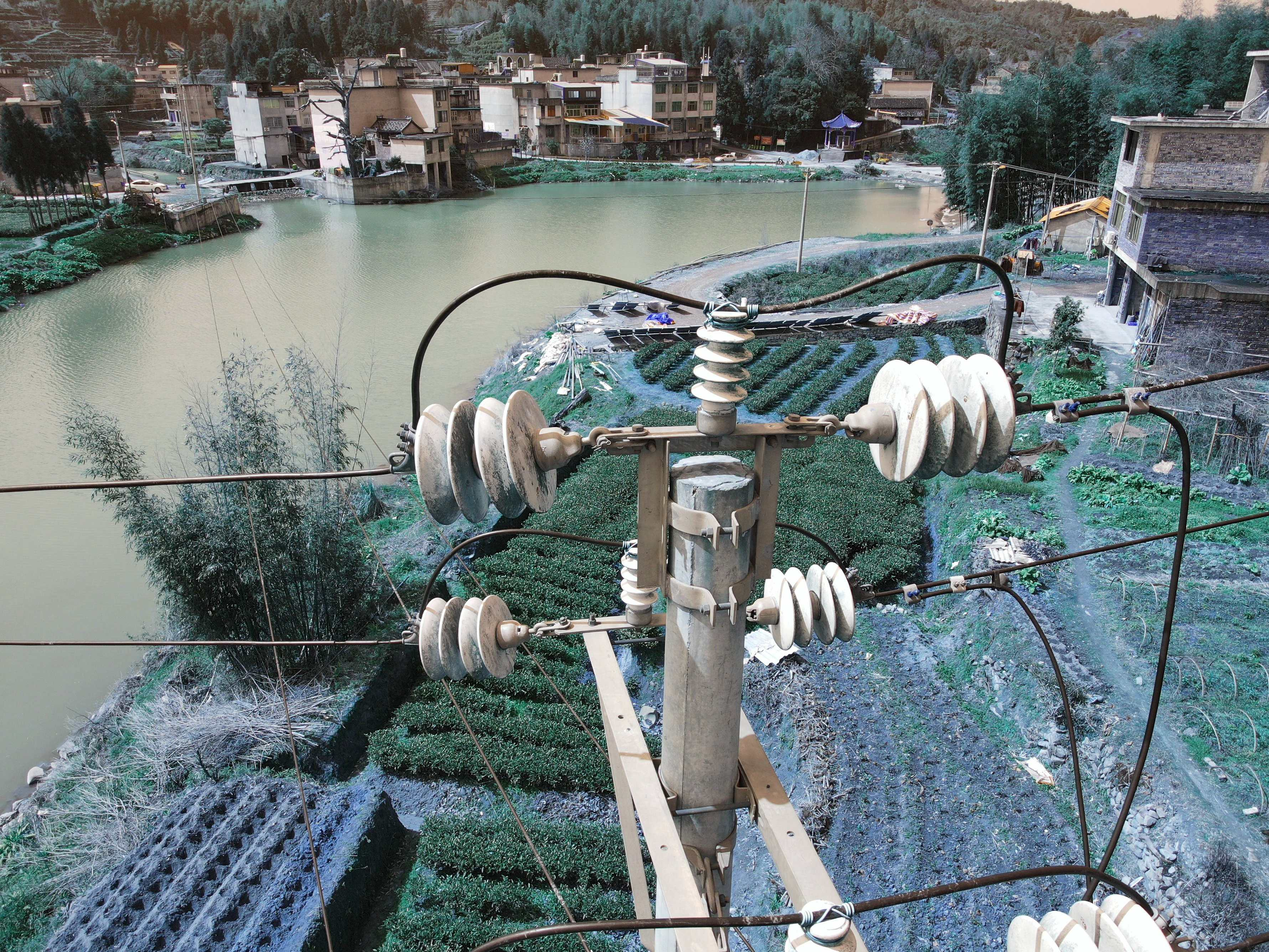severe_soiling_no_discharge_whole: (846, 349, 1020, 487), (413, 388, 584, 523), (416, 590, 529, 682), (759, 560, 857, 652), (686, 308, 757, 434)
